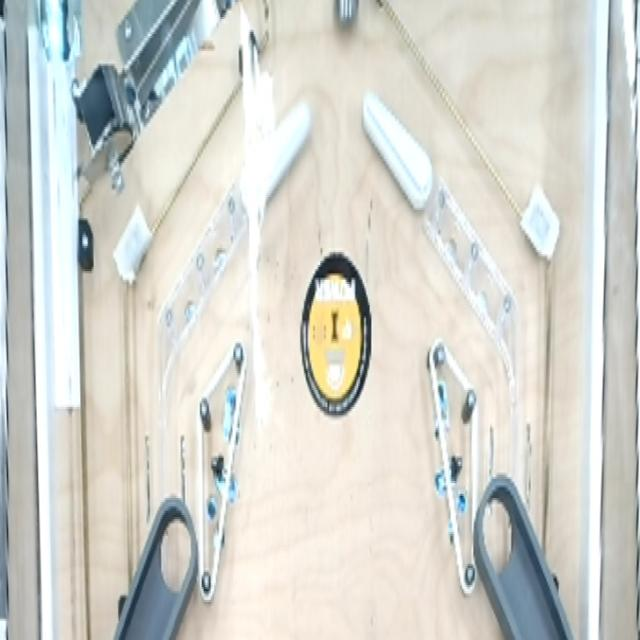ball: (328, 0, 363, 42)
flipper-left: (361, 90, 438, 222)
flipper-right: (235, 90, 316, 236)
